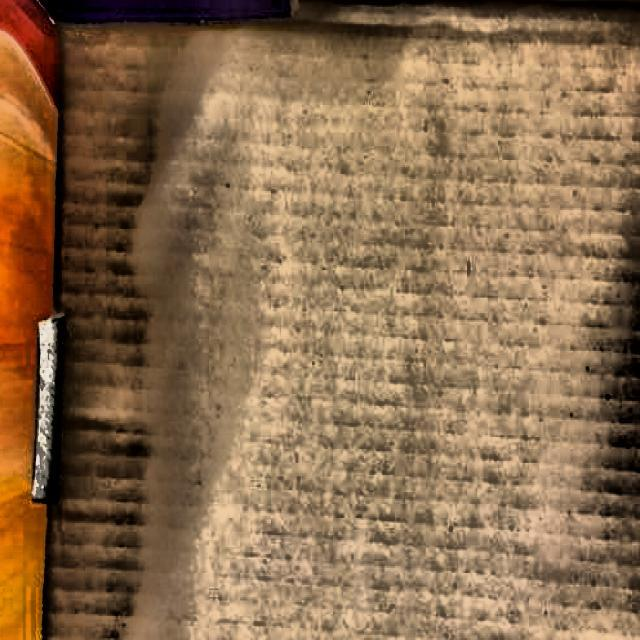cardboard: (0, 0, 62, 640)
